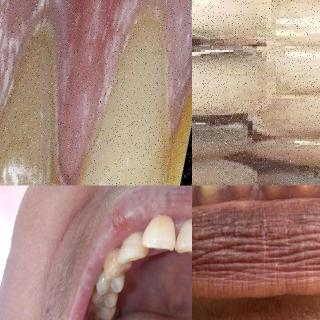calculus: (0, 12, 86, 186)
cavities: (192, 10, 234, 70), (192, 101, 244, 145)
maligned: (141, 211, 179, 265)
stains: (138, 239, 150, 260)
